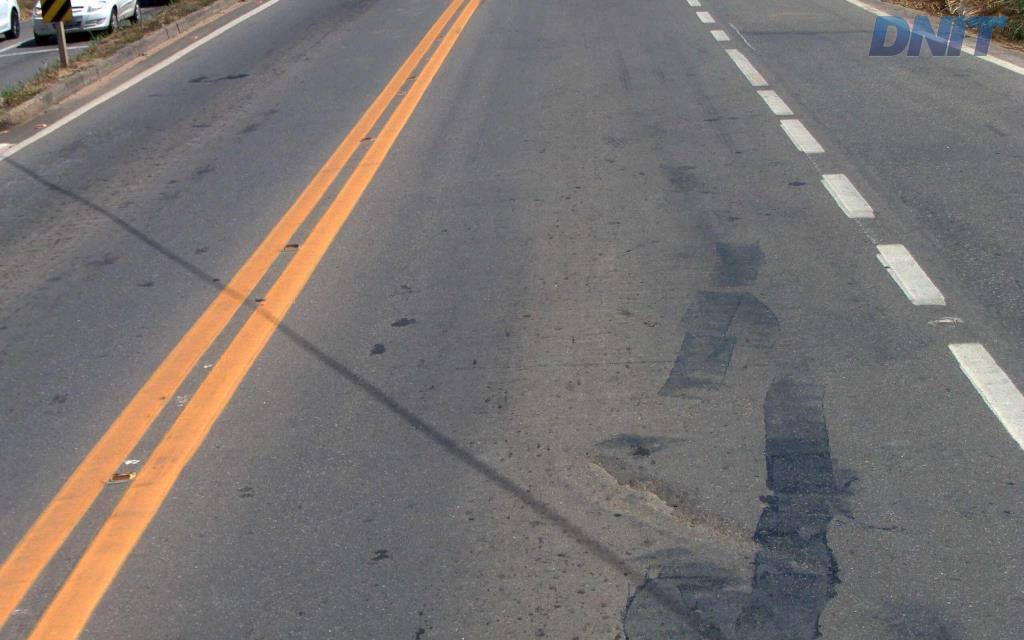pothole: (586, 450, 826, 581)
